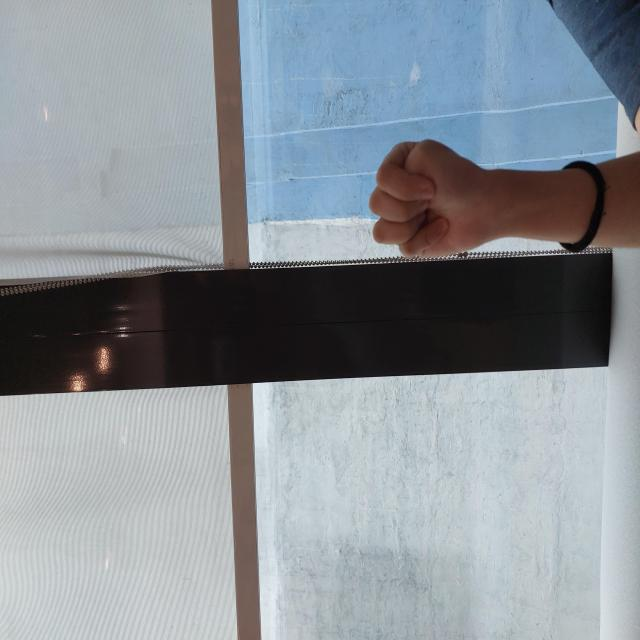M: (382, 368, 502, 474)
